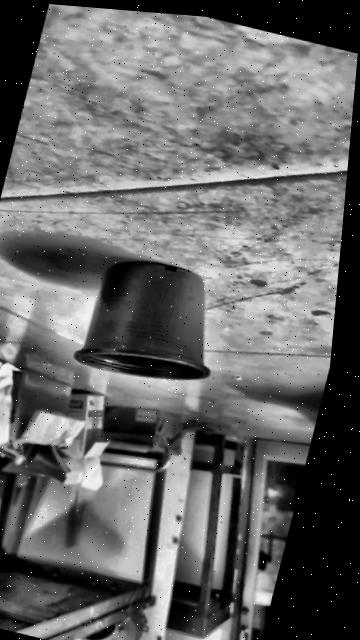pot: (71, 247, 233, 396)
